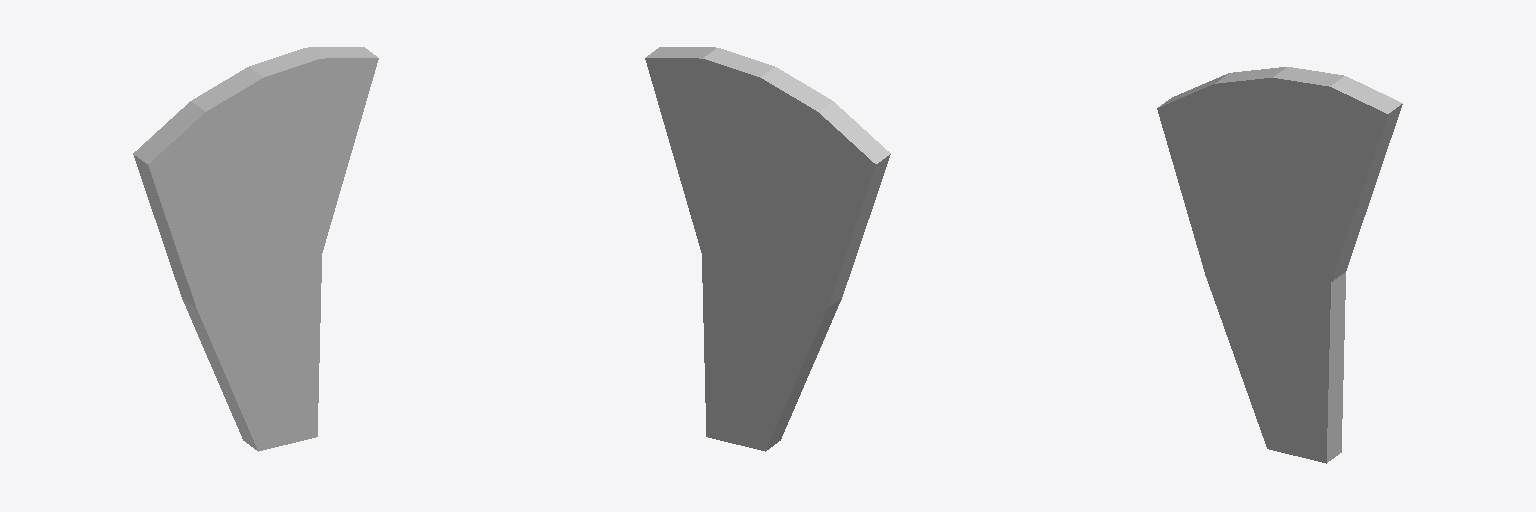
Rendered from WingShape.obj.
3 views of the same model, side by side, from view 1: azimuth 30°, elevation 25°; view 2: azimuth 150°, elevation 25°; view 3: azimuth 330°, elevation 25° (orthographic).
Visible parts, largest first — view 1: pCube1; view 2: pCube1; view 3: pCube1.
Part boxes in pixels (x1,y1,x2,y2): pCube1: (133, 47, 378, 451); pCube1: (645, 47, 890, 451); pCube1: (1157, 67, 1402, 463).
Bounding box in the file's own units: 1.69 × 2.64 × 0.1905.